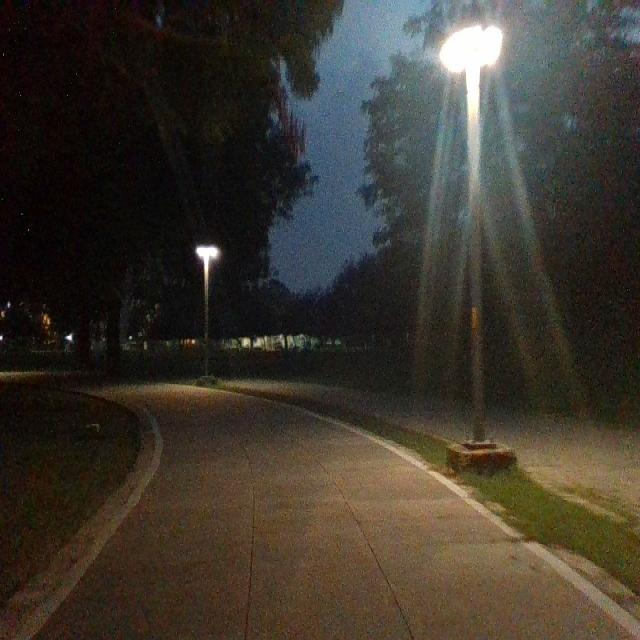lane: (32, 387, 639, 640)
